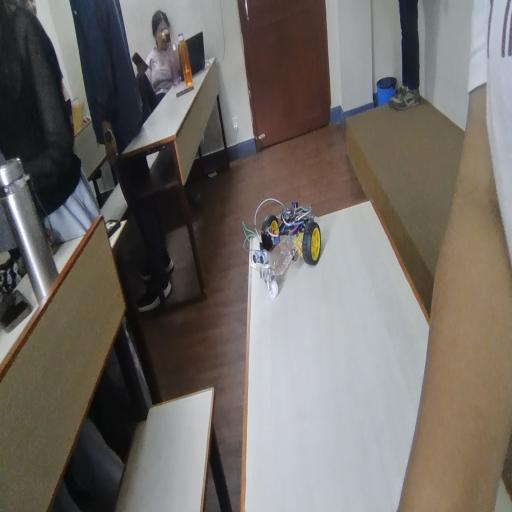car: (259, 173, 338, 321)
